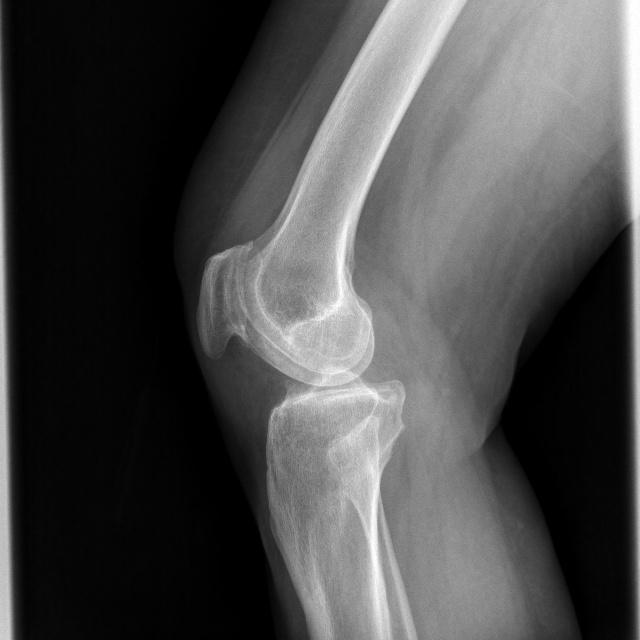Knee: (192, 232, 409, 471)
